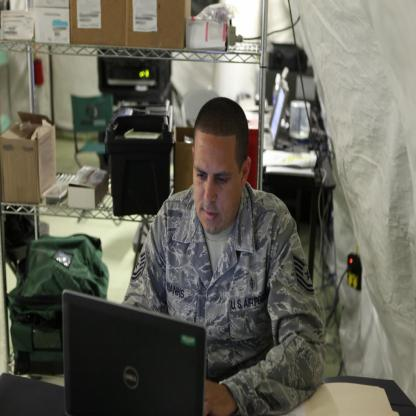board: (62, 290, 209, 416), (263, 85, 285, 151)
